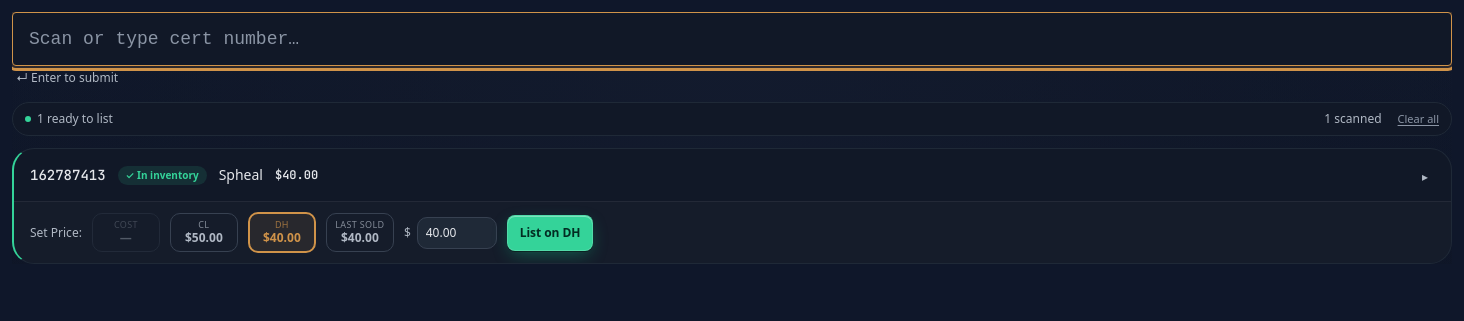
it: confirmed Cert Intake returns › treats a lost price-save response as unconfirmed and does not list
Click the button "List on DH": (550, 233) [507,215,593,251]
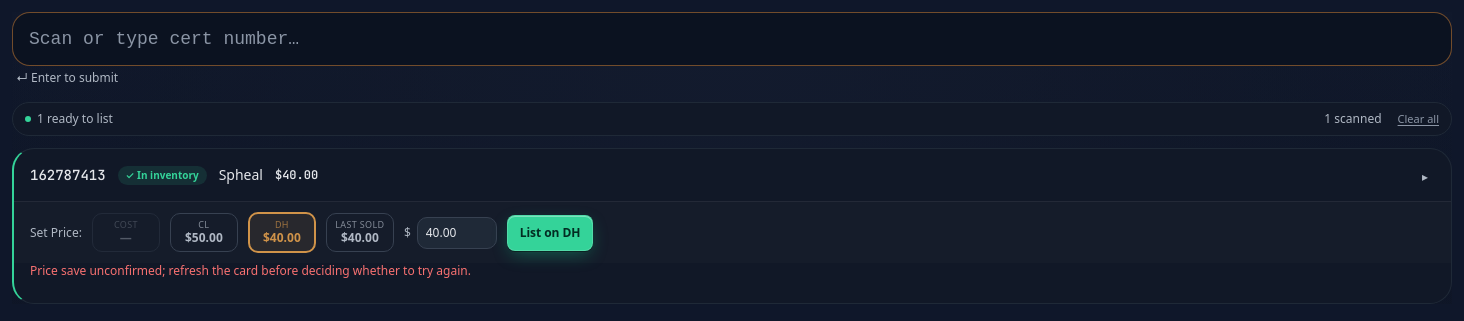
Now the text "Price save unconfirmed; refresh the card before deciding whether to try again" is shown, box [30,262,471,279]
